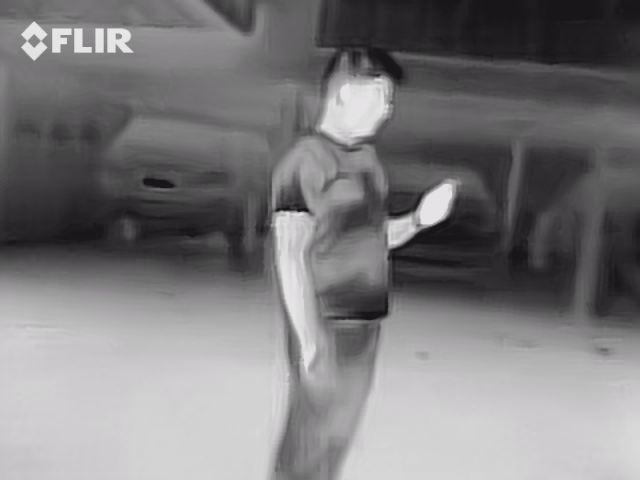head: (321, 48, 397, 137)
